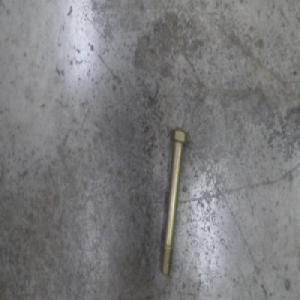Bolt: (159, 128, 188, 277)
